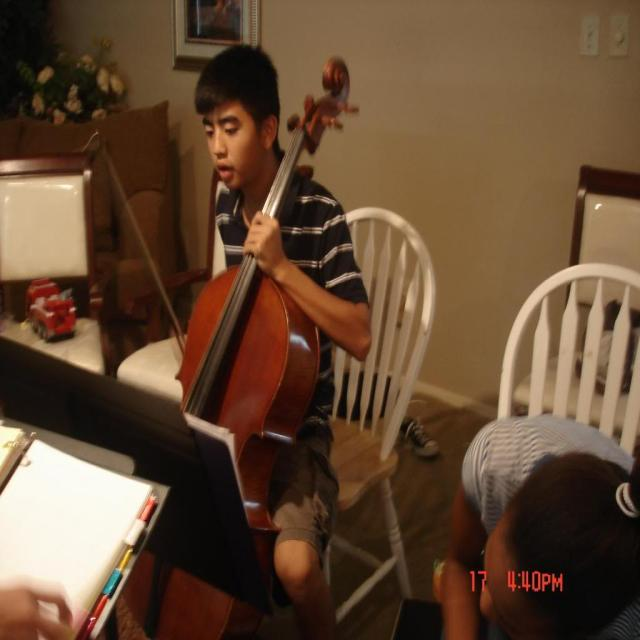cello: (158, 48, 363, 576)
